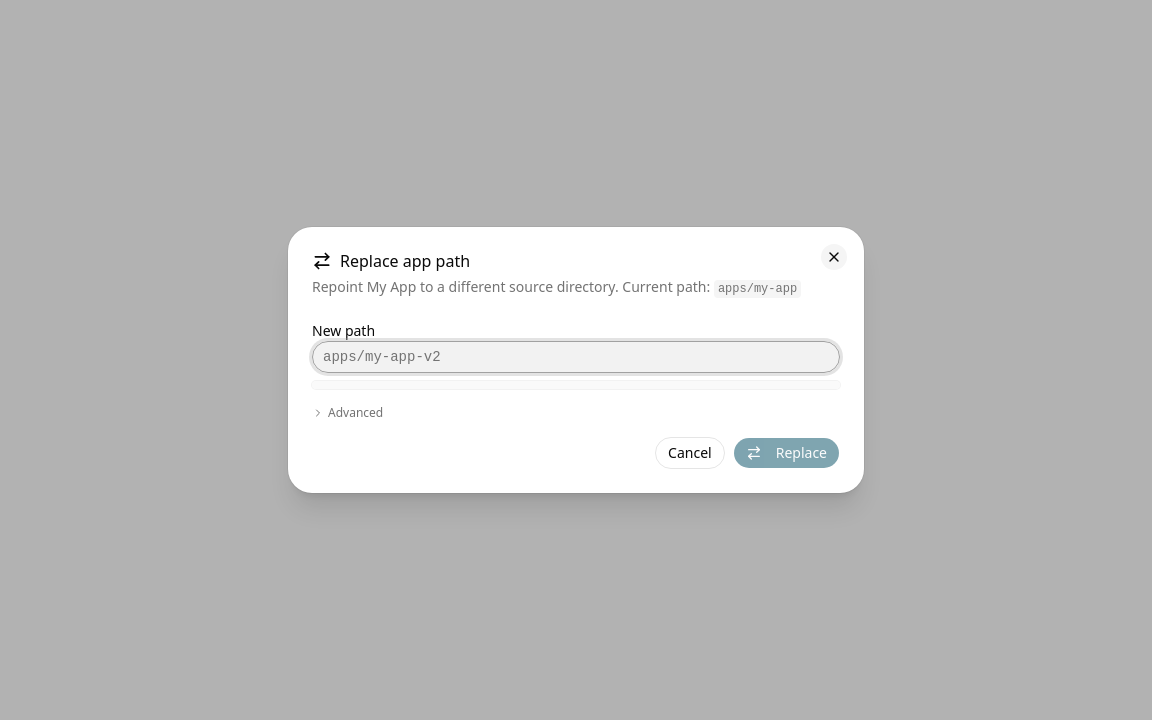
Test: AppReplacePathDialog — warnings › warns when the chosen path already belongs to another app
Type "apps/other" into the field labelled "New path" at x=576, y=357, box top-left (312, 341), bottom-right (840, 373)
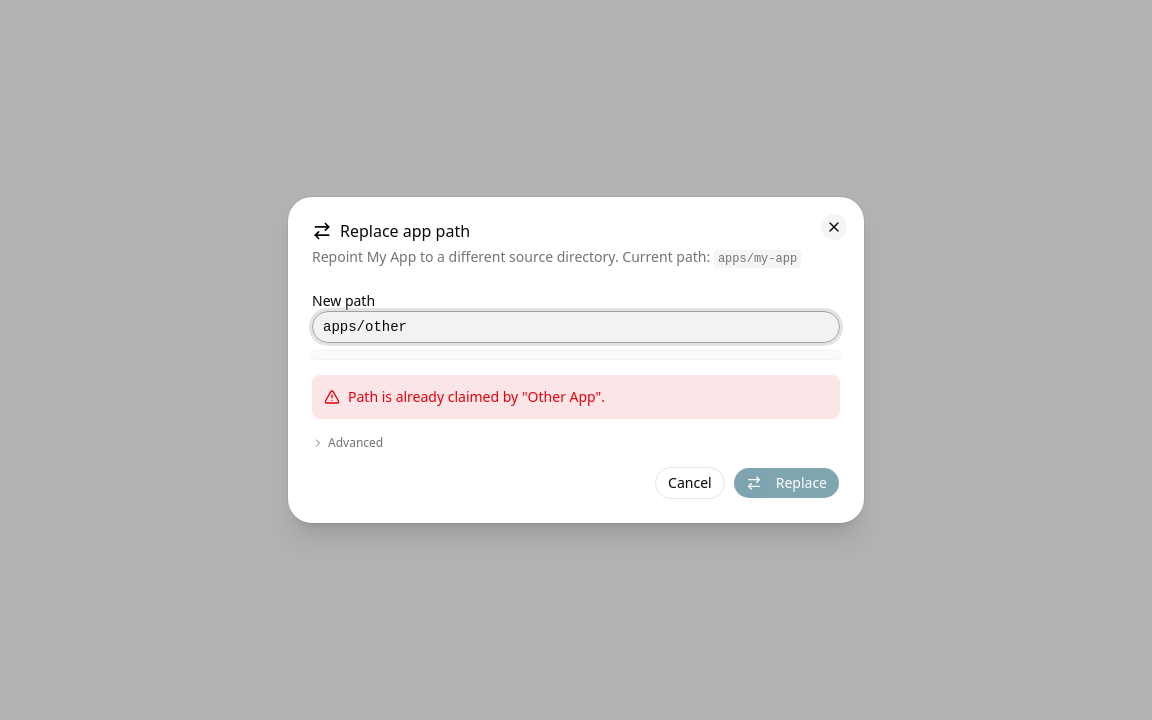
Expected: the button "Replace" is disabled, top-left (733, 467), bottom-right (840, 499)
Expected: the text "Path is already claimed by \"Other App\"." is shown, top-left (348, 387), bottom-right (605, 407)
